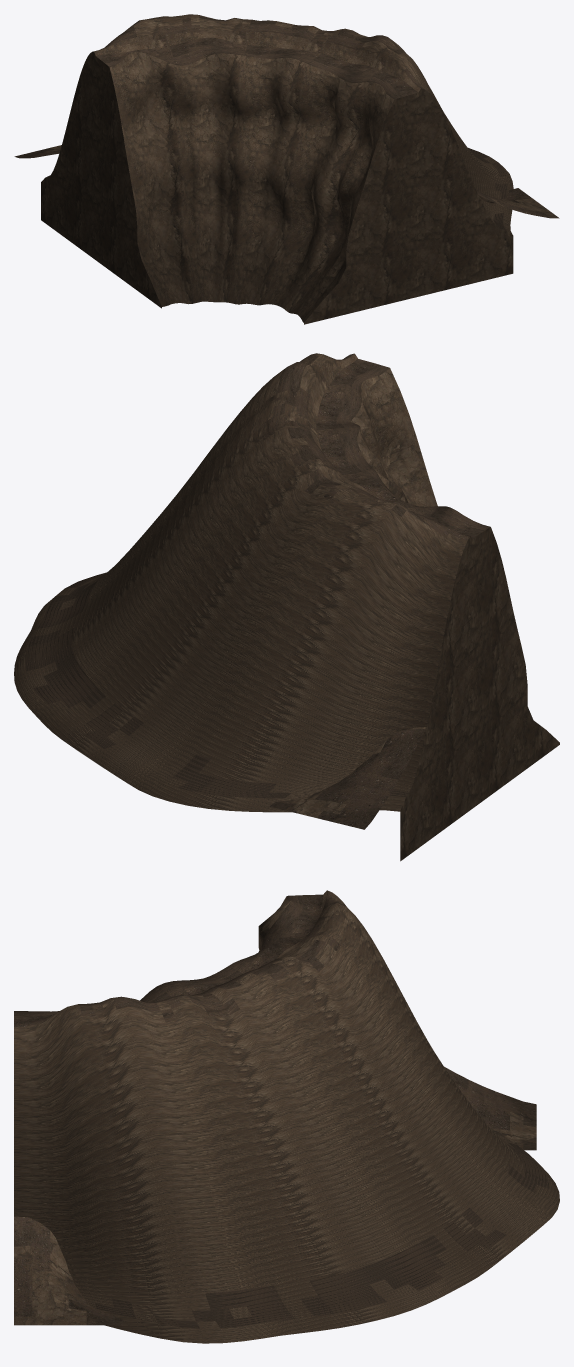
Rendered from seacliff_inner_h5_v5_dead.glb.
3 renders of one model, top to bottom at view 1: azimuth 30°, elevation 25°; view 2: azimuth 150°, elevation 25°; view 3: azimuth 270°, elevation 25°, orthographic. The views are drawn at different scales.
Parts seen in each view (by area): view 1: seacliff_inner_h5; view 2: seacliff_inner_h5; view 3: seacliff_inner_h5.
Part boxes in pixels (<box>): seacliff_inner_h5: <box>14,14,559,324</box>; seacliff_inner_h5: <box>14,353,559,861</box>; seacliff_inner_h5: <box>14,890,559,1343</box>.
Bounding box in the file's own units: 12.05 × 7.29 × 12.01.
Materials: 2 (2 with a texture image).
